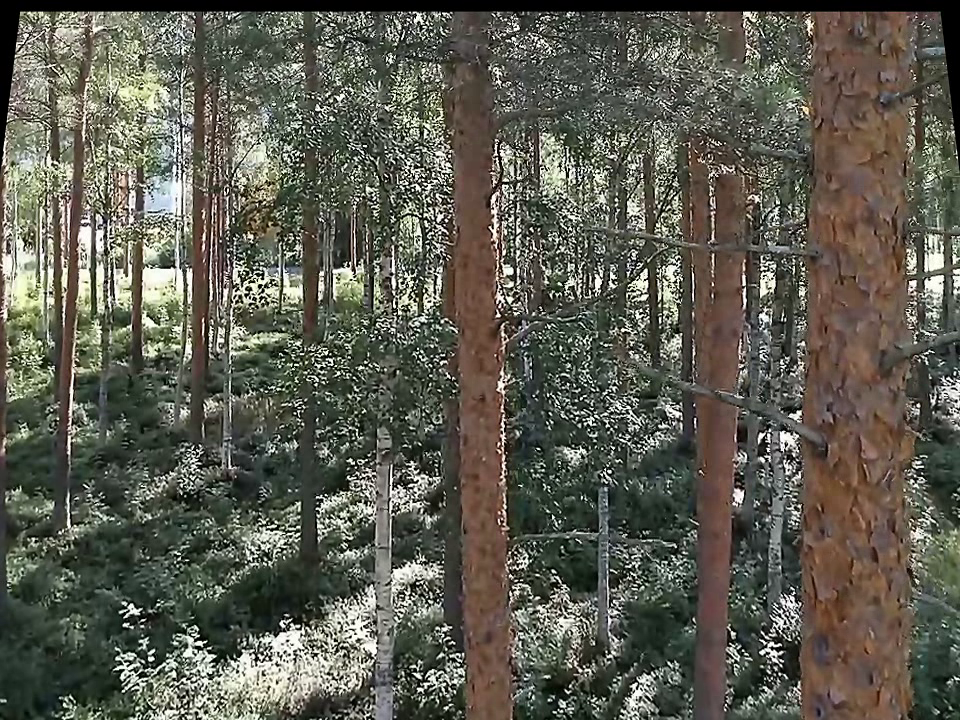branch: (617, 333, 802, 442), (582, 217, 809, 266)
trunk: (794, 12, 926, 713), (438, 15, 521, 710), (670, 26, 740, 699), (38, 41, 102, 543), (284, 18, 328, 557), (180, 18, 211, 452), (361, 425, 405, 712), (119, 168, 154, 373)
